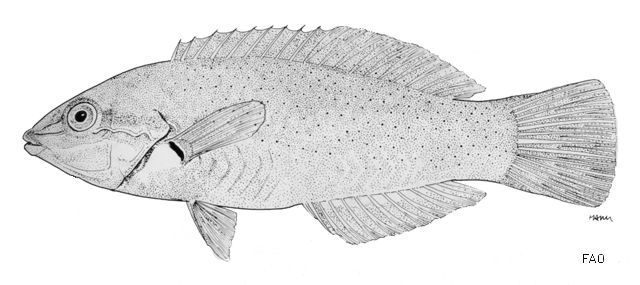fish: (22, 22, 619, 262)
